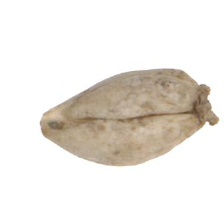L1: (195, 83, 220, 126), (39, 112, 51, 139)
L2: (40, 68, 220, 167)
